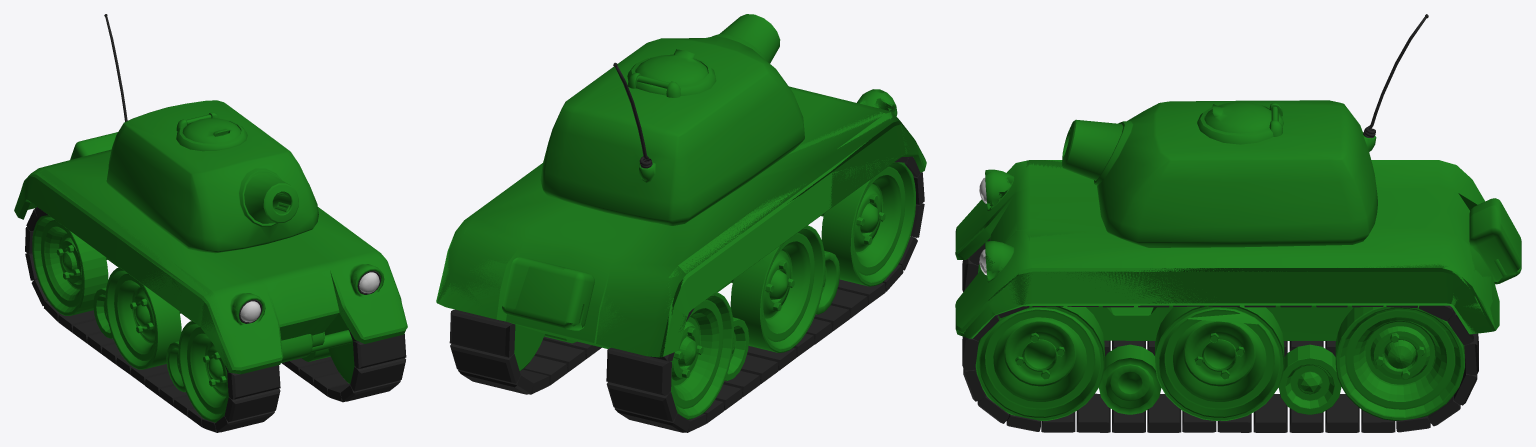
File: Light Tank.FBX
3 views of the same model, side by side, from view 1: azimuth 30°, elevation 25°; view 2: azimuth 150°, elevation 25°; view 3: azimuth 270°, elevation 25° (orthographic). The views are drawn at different scales.
Visible parts, largest first — view 1: TankChassis, TankTurret; view 2: TankChassis, TankTurret; view 3: TankChassis, TankTurret.
Boxes of the visible parts, x1,y1,x2,y2 form: TankChassis: (14,132,407,432); TankTurret: (104,14,318,253); TankChassis: (436,86,926,432); TankTurret: (540,14,804,225); TankChassis: (955,160,1521,432); TankTurret: (1062,14,1428,247).
Bounding box in the file's own units: 40.67 × 58.16 × 84.7.
